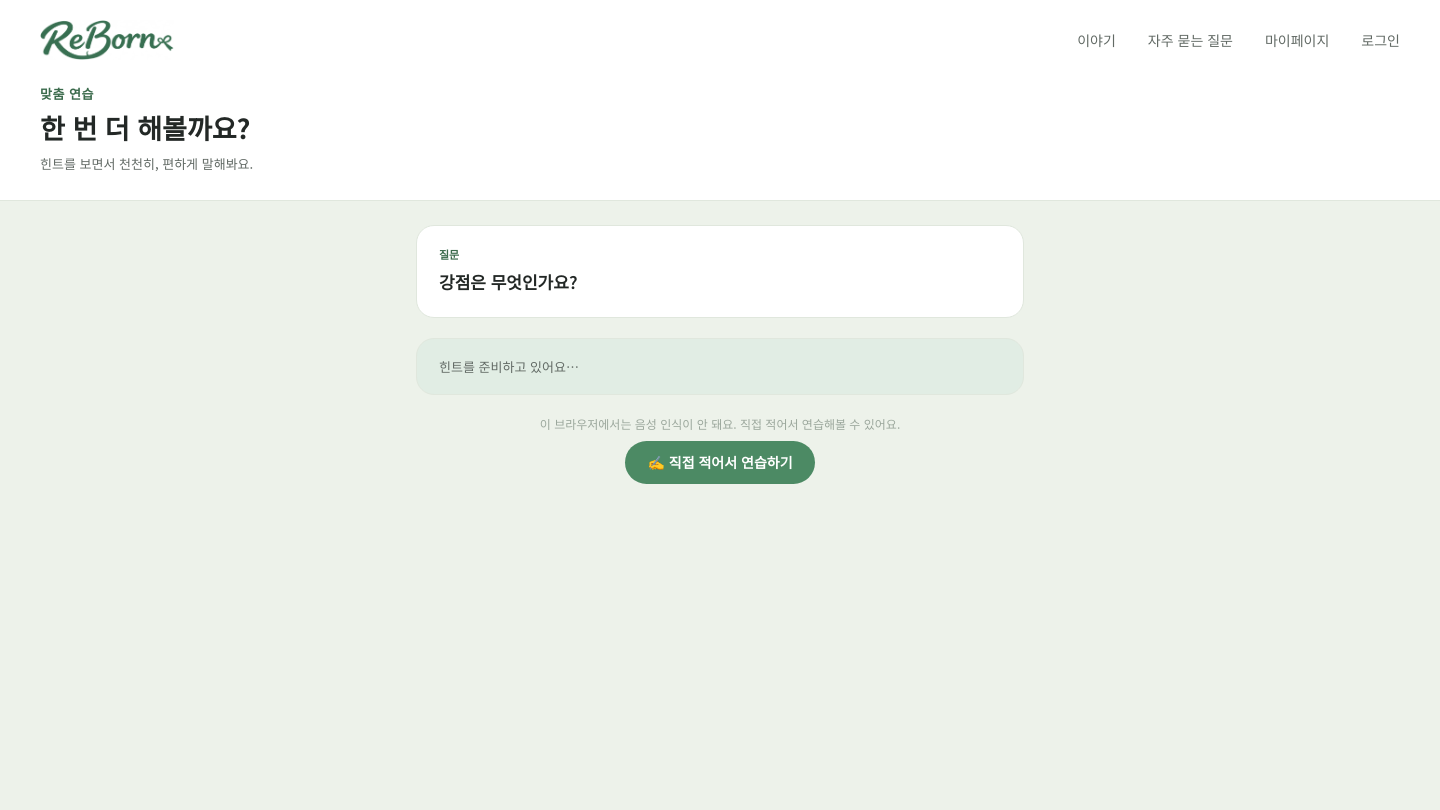
it: PracticePage › 직접 적어서 답하기 (음성 인식 불가 브라우저) › 안내와 함께 적어서 연습하는 방법을 제공한다
This screenshot has width=1440, height=810.
Expected: the text "이 브라우저에서는 음성 인식이 안 돼요. 직접 적어서 연습해볼 수 있어요." is shown, [540,415,900,433]
Click the button "✍️ 직접 적어서 연습하기" at (720, 463), box [625,441,815,484]
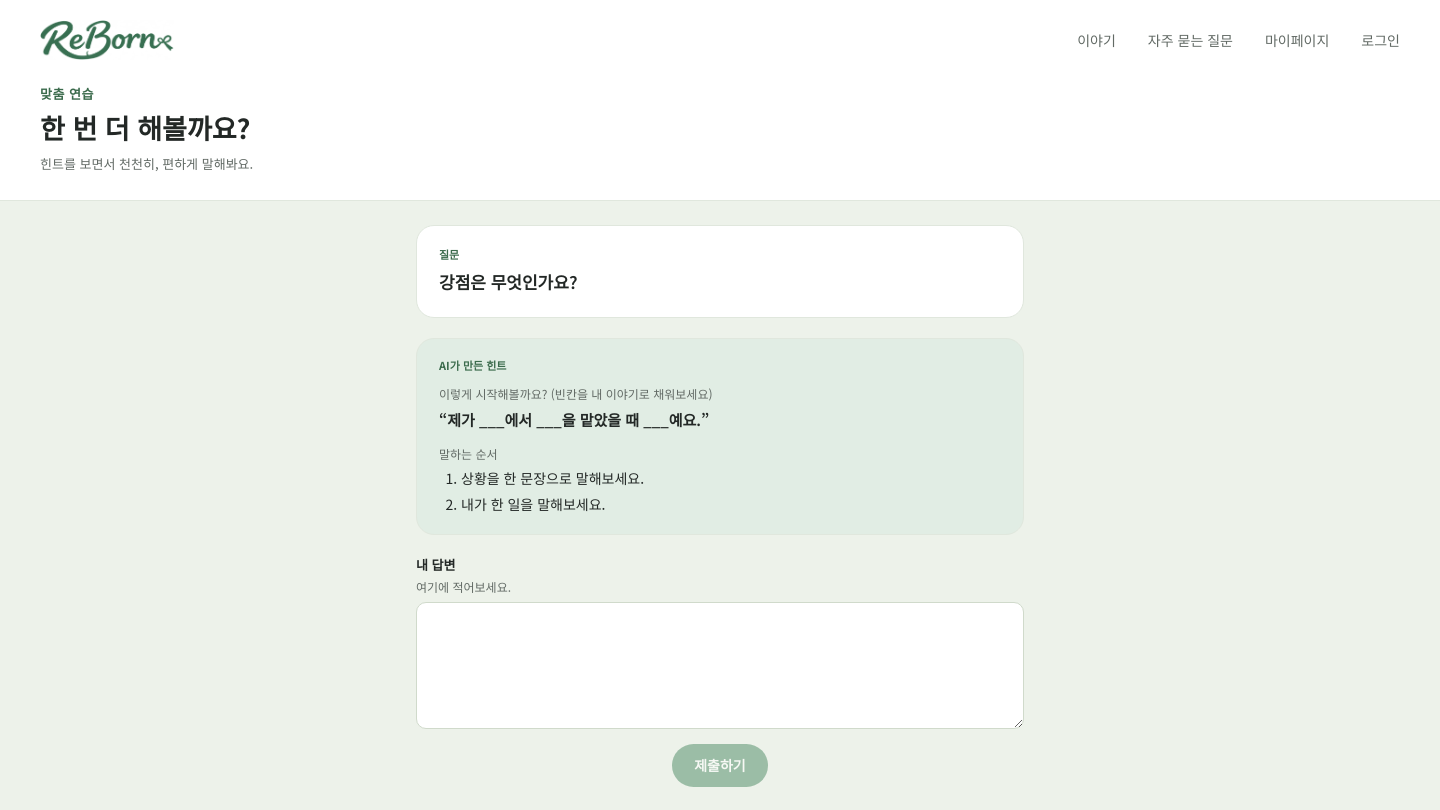
Type "저는 성실해요" into the text box labelled "내 답변" at (720, 666), box [416,602,1024,729]
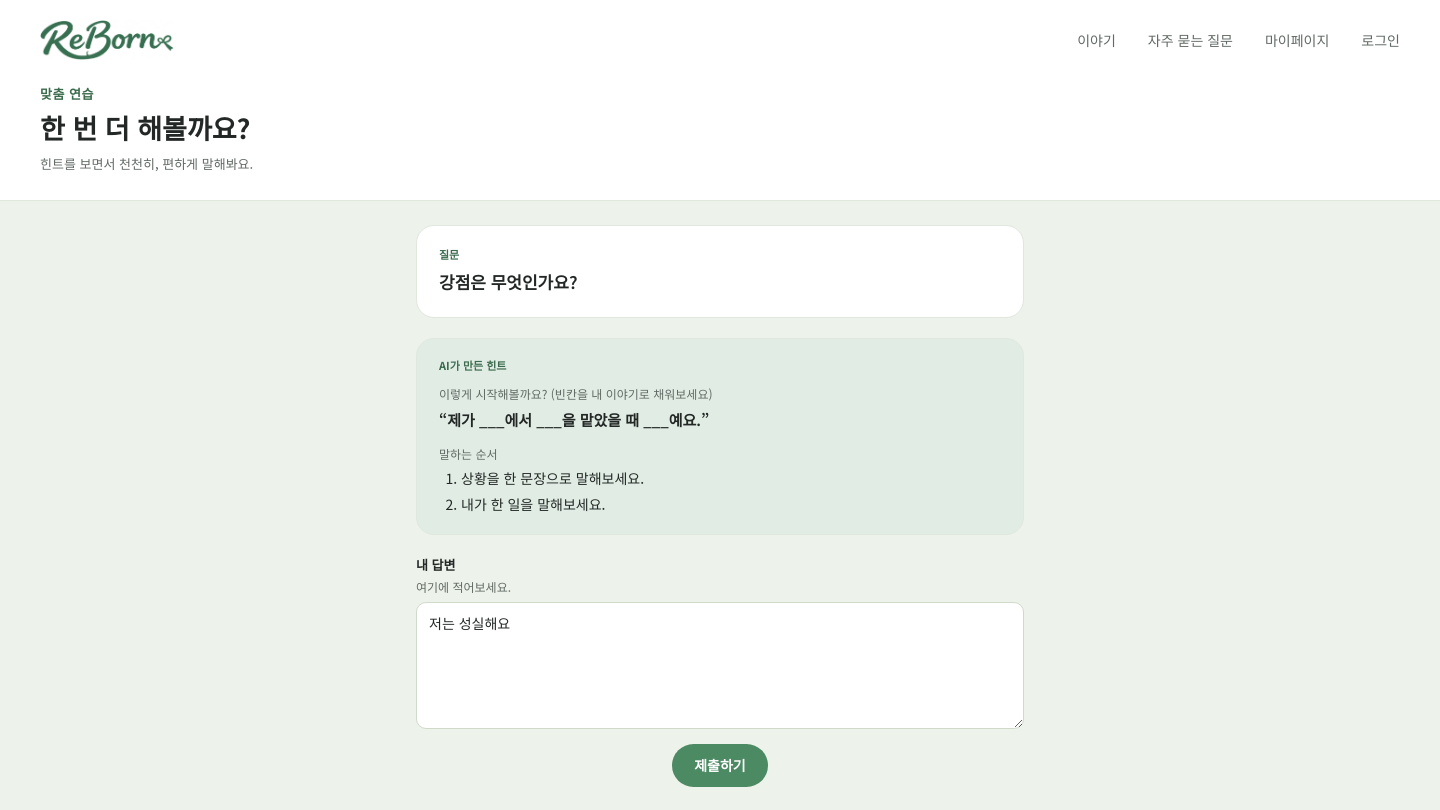
Click the button "제출하기" at (720, 766), box [672,744,768,787]
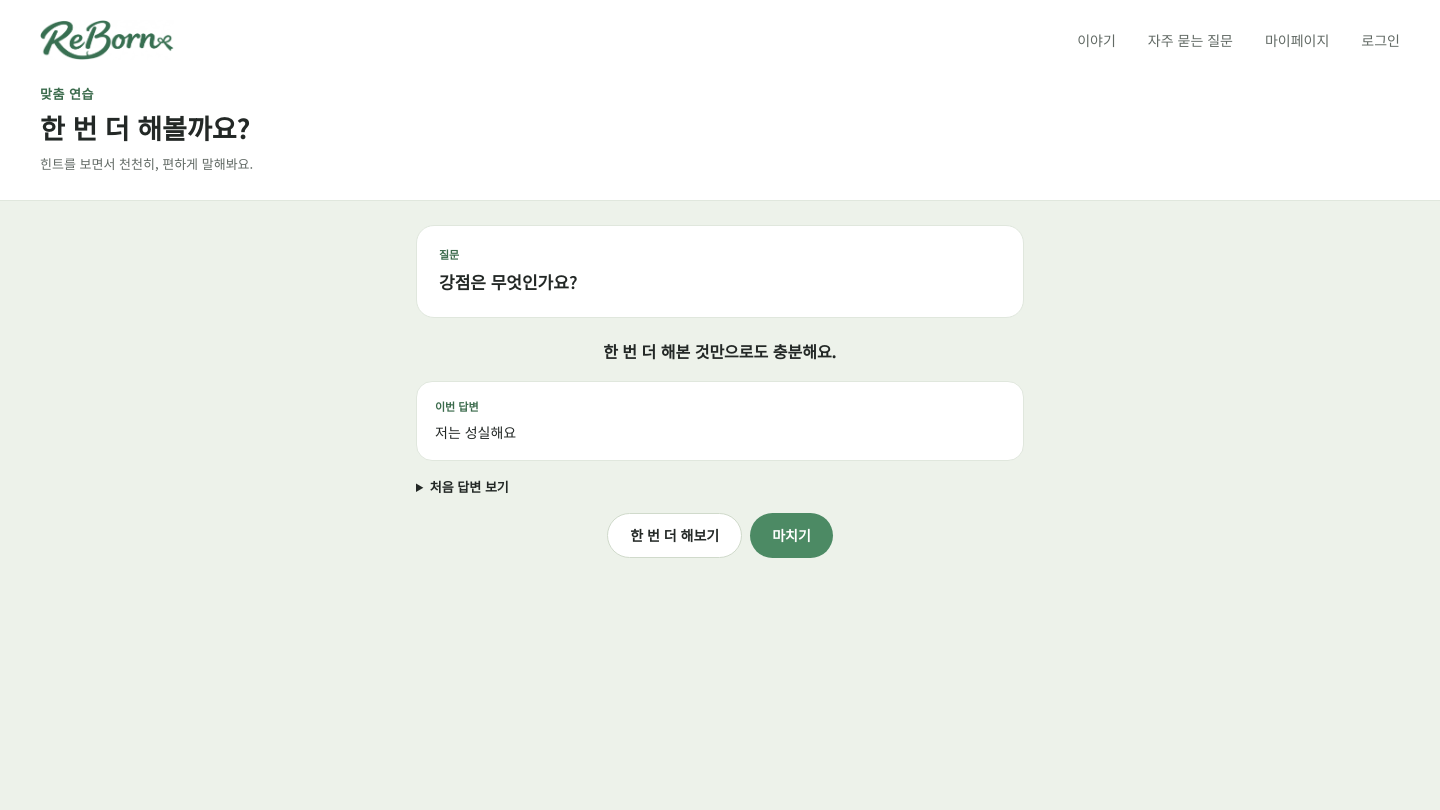
Result: the text "저는 성실해요" is shown at [435,422,516,442]
